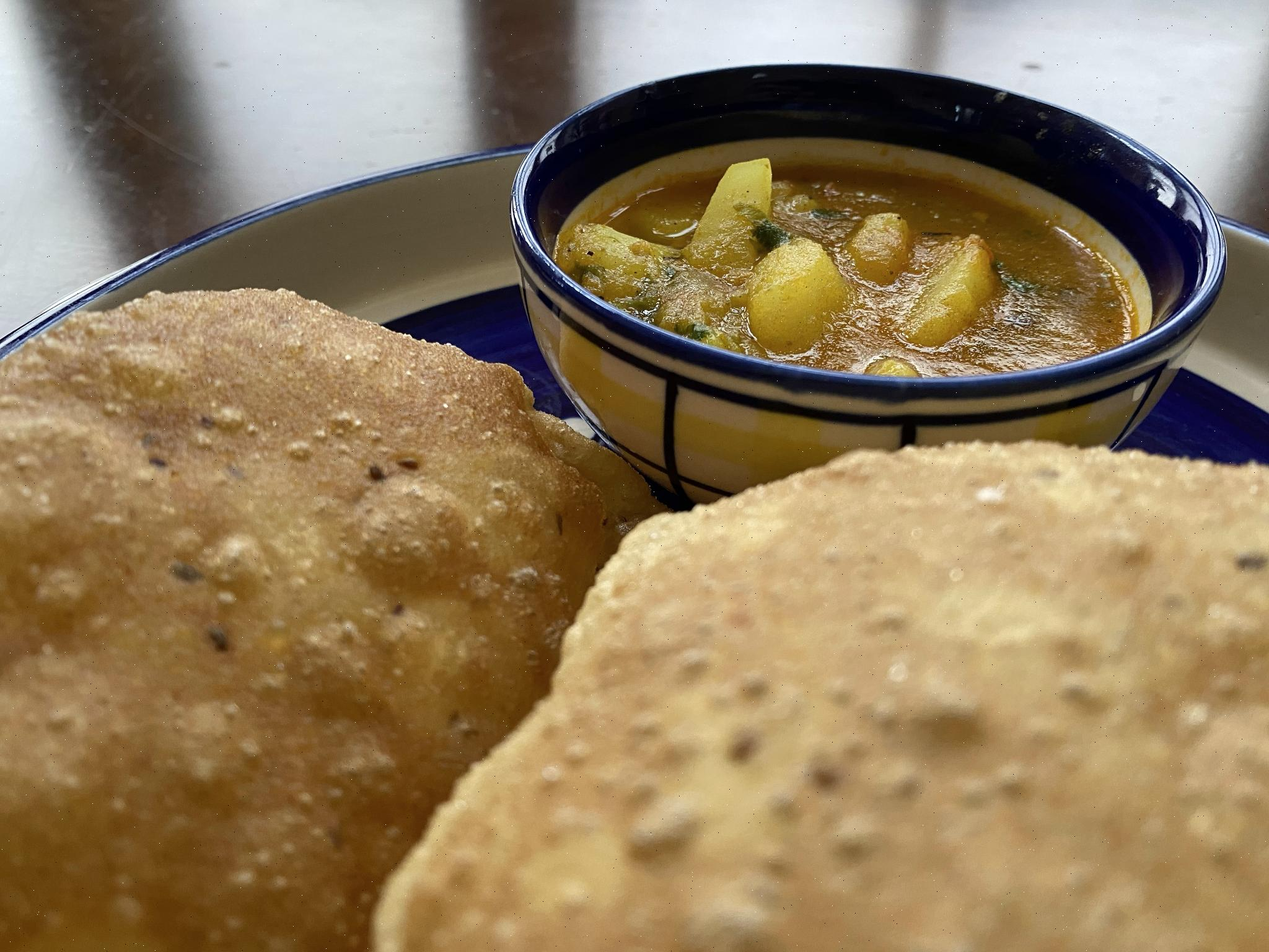puri: (3, 416, 1269, 952)
